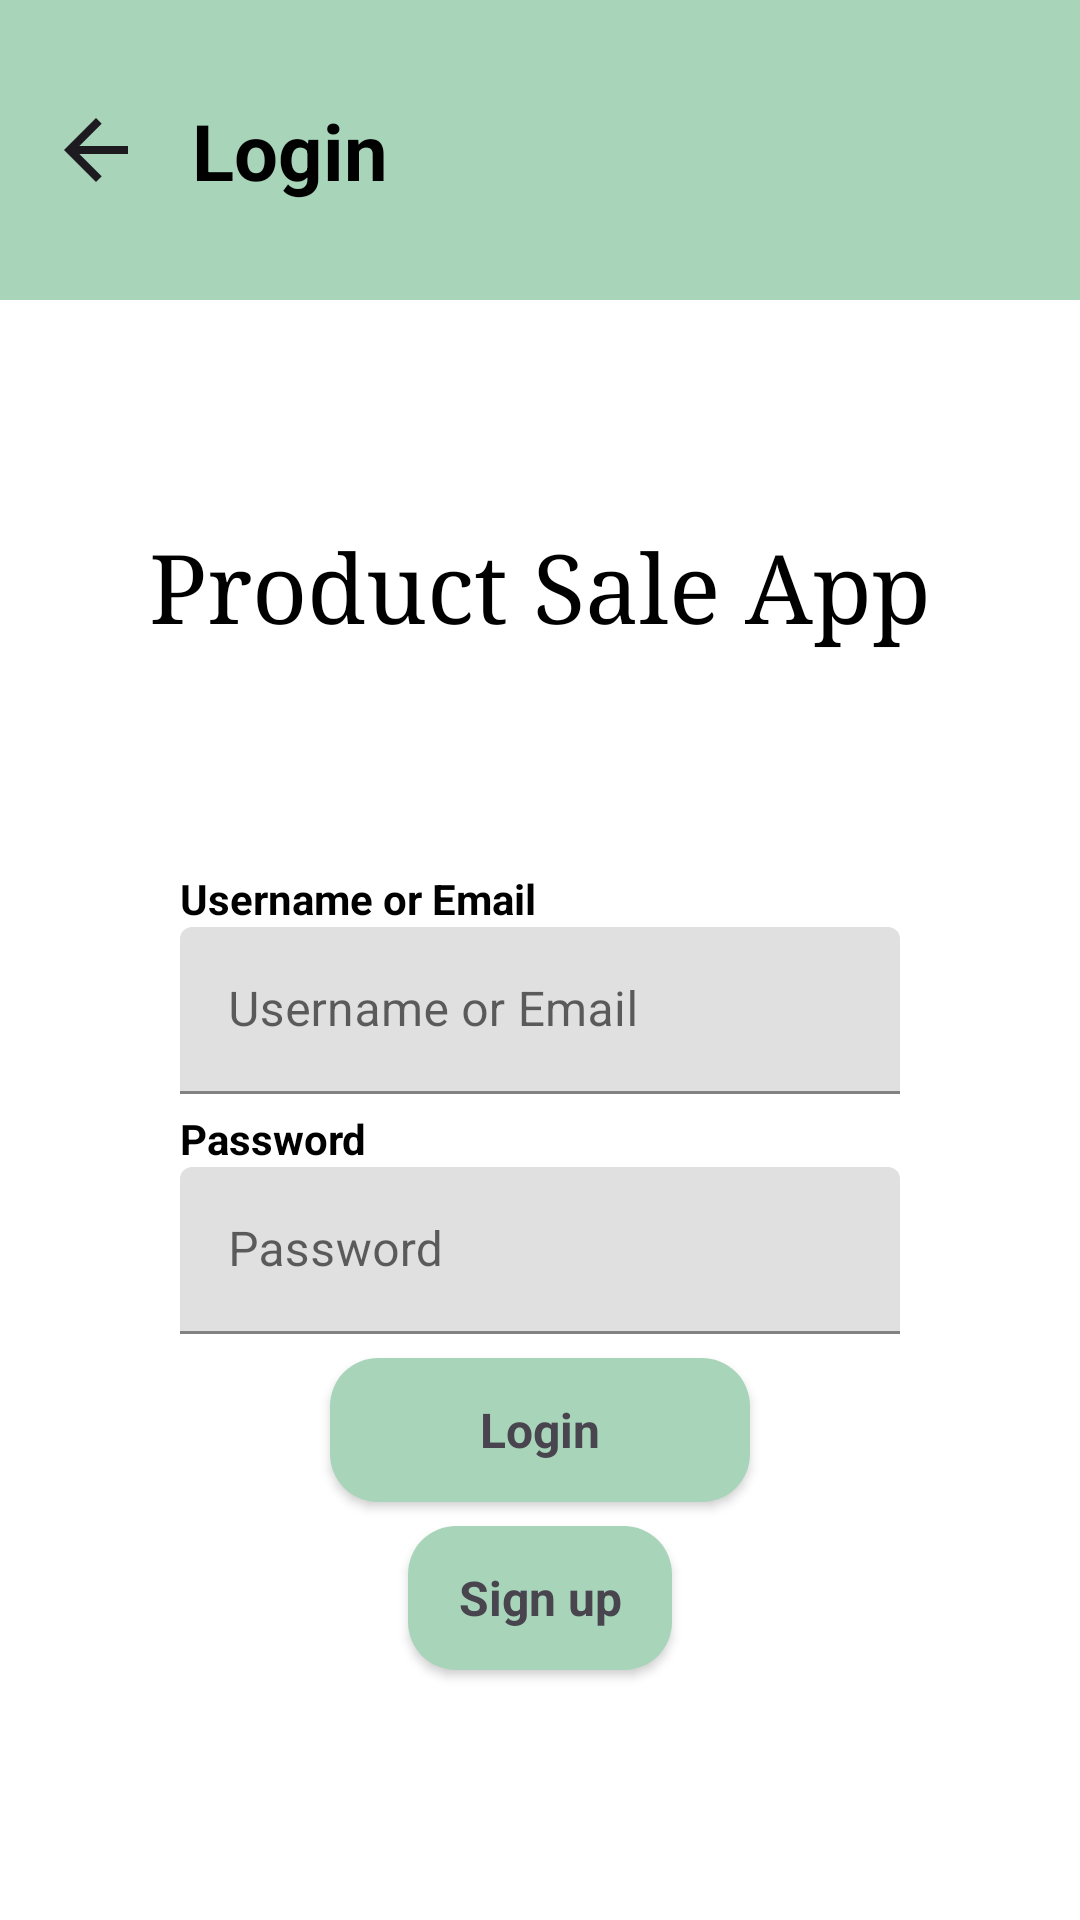

Screen size 1080w x 1920h. Icon name, then its center in pixels as (x,y):
Return: (96,150)
